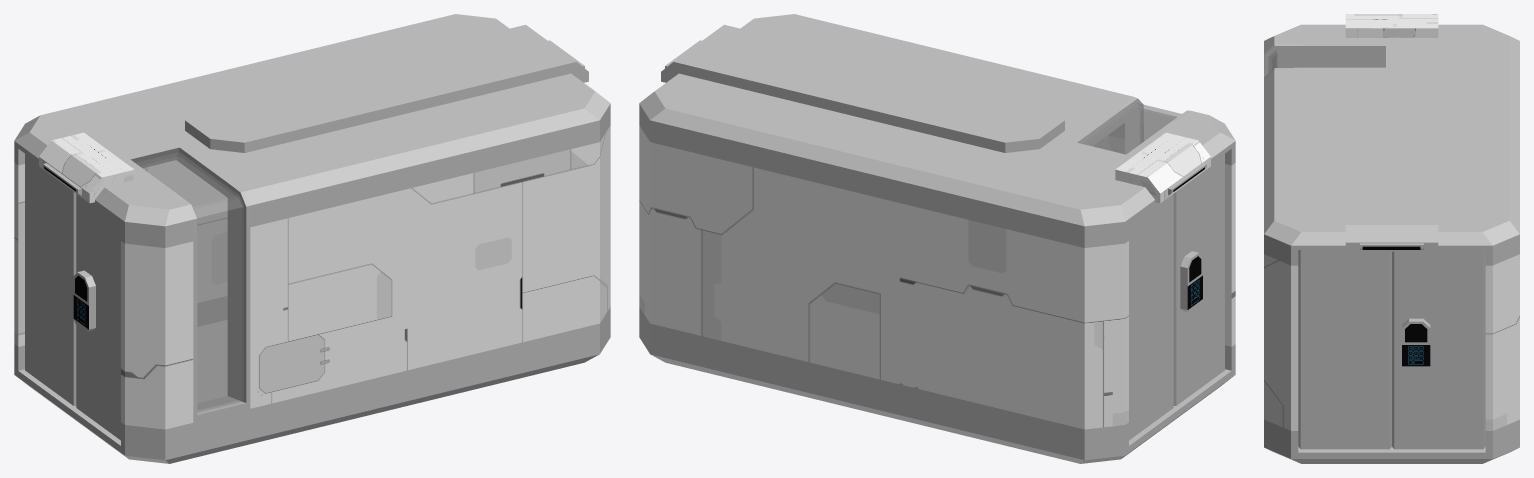
File: SM_ContainerL_Box_3.fbx
3 views of the same model, side by side, from view 1: azimuth 30°, elevation 25°; view 2: azimuth 150°, elevation 25°; view 3: azimuth 270°, elevation 25° (orthographic). The views are drawn at different scales.
Parts seen in each view (by area): view 1: SM_ContainerL_Box_3, Door_2, Door_1; view 2: SM_ContainerL_Box_3, Door_1, Door_2; view 3: SM_ContainerL_Box_3, Door_4, Door_3, Door_1.
Boxes of the visible parts, <box> form: SM_ContainerL_Box_3: <box>14,14,610,463</box>; Door_2: <box>25,154,76,405</box>; Door_1: <box>73,194,120,440</box>; SM_ContainerL_Box_3: <box>639,14,1235,463</box>; Door_1: <box>1173,154,1224,405</box>; Door_2: <box>1129,194,1173,440</box>; SM_ContainerL_Box_3: <box>1264,14,1519,463</box>; Door_4: <box>1392,250,1485,449</box>; Door_3: <box>1298,250,1391,449</box>; Door_1: <box>1298,59,1385,67</box>.
Bounding box in the file's own units: 417 × 208 × 200.
